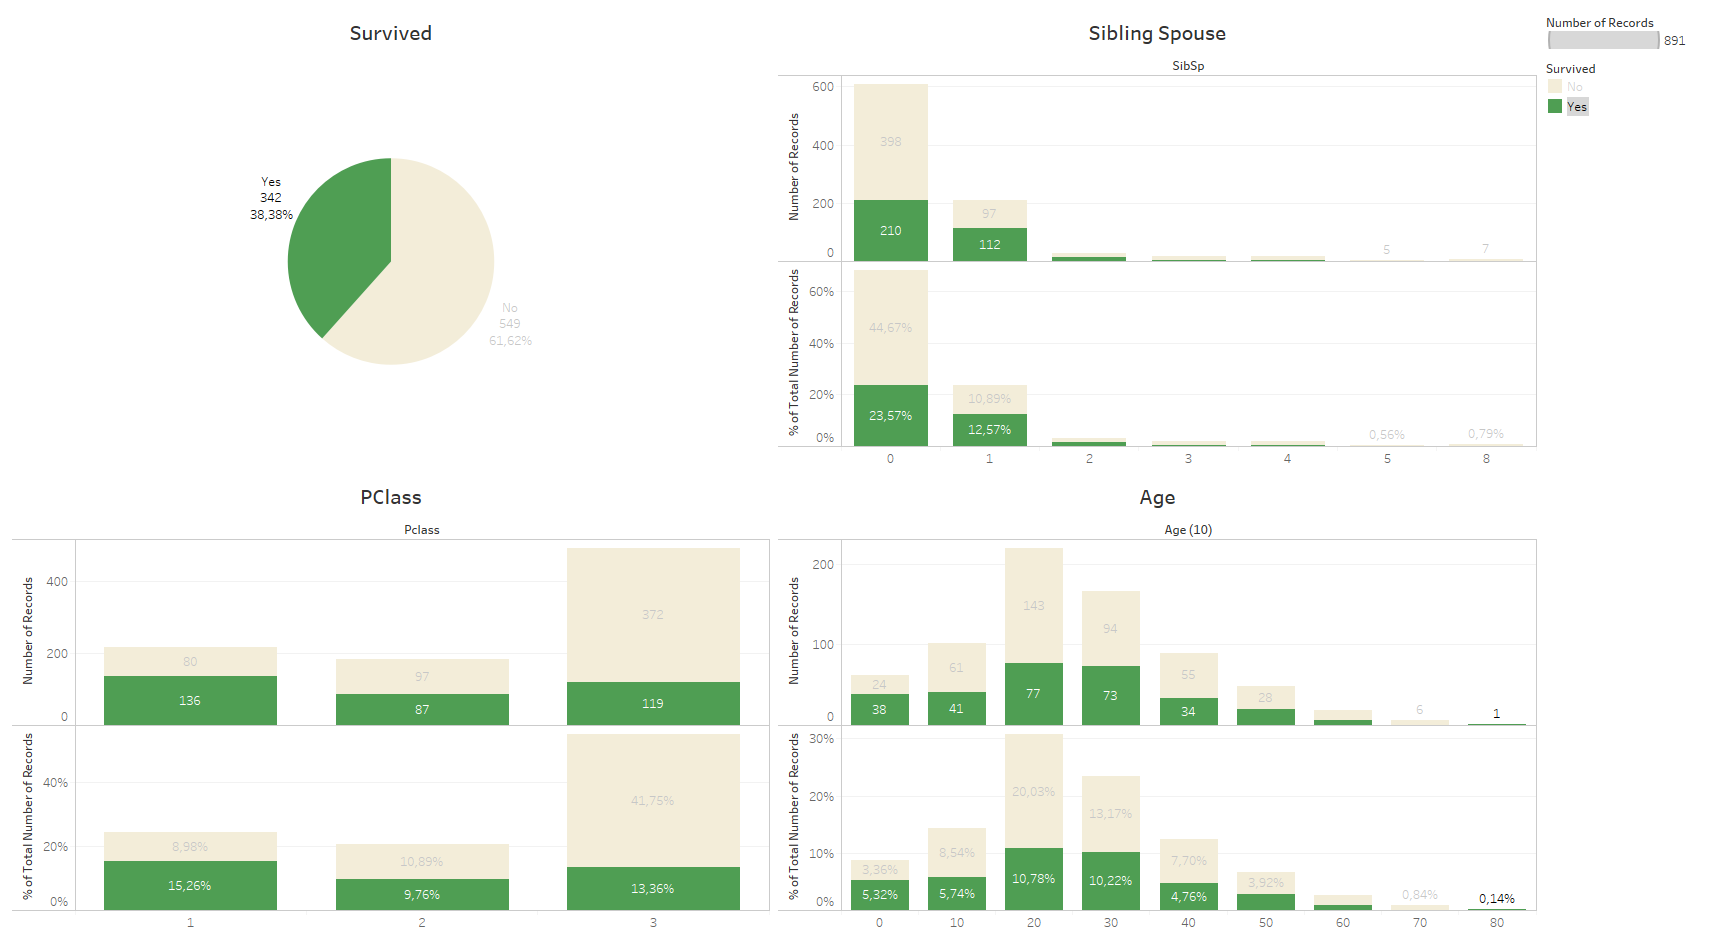

The dashboard page shown, as its layout file describes it:
{"tool":"tableau","page":{"name":"Report","canvas":[1000,1000],"units":"permille","ordinal":0},"visuals":[{"type":"worksheet","title":"Survived","mark":"Pie","box":[4.7,8.5,448.5,491.5]},{"type":"worksheet","title":"Sibling Spouse","mark":"Automatic","rows":["Number of Records","Number of Records"],"cols":["SibSp"],"box":[453.2,8.5,448.6,491.5]},{"type":"legend","title":"Survived","param":"[federated.1k5ihd51cbc3k113dtytt191uhcs].[sum:Number of Records:qk]","box":[901.7,8.5,93.6,48.7]},{"type":"legend","title":"Survived","param":"[federated.1k5ihd51cbc3k113dtytt191uhcs].[none:Survived:ok]","box":[901.7,57.2,93.6,69.9]},{"type":"worksheet","title":"PClass","mark":"Automatic","rows":["Number of Records","Number of Records"],"cols":["Pclass"],"box":[4.7,500,448.5,491.6]},{"type":"worksheet","title":"Age","mark":"Automatic","rows":["Number of Records","Number of Records"],"cols":["Age (bin)"],"box":[453.2,500,448.6,491.6]}]}

Visuals, with their boxes on the dashboard's canvas, which has no fixed pixel size, in thousandths of its width and height (x1, y1, x2, y2). These are canvas units, not pixel positions in the 1709x944 screenshot, which may show the page scaled, cropped or inside an application window:
"Survived" worksheet (Pie marks): bbox=[5, 8, 453, 500]
"Sibling Spouse" worksheet: bbox=[453, 8, 902, 500]
"Survived" legend: bbox=[902, 8, 995, 57]
"Survived" legend: bbox=[902, 57, 995, 127]
"PClass" worksheet: bbox=[5, 500, 453, 992]
"Age" worksheet: bbox=[453, 500, 902, 992]
